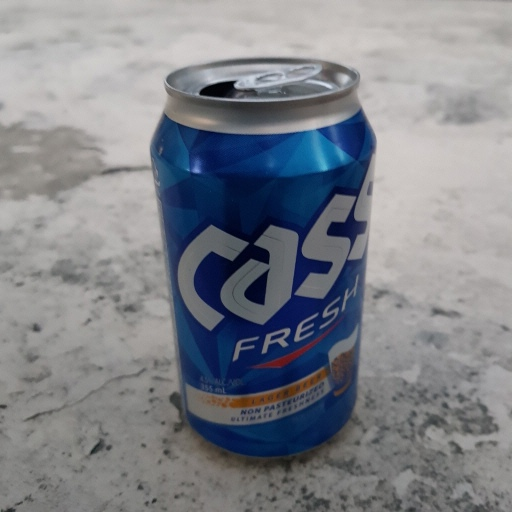Metal_0: (140, 56, 378, 461)
